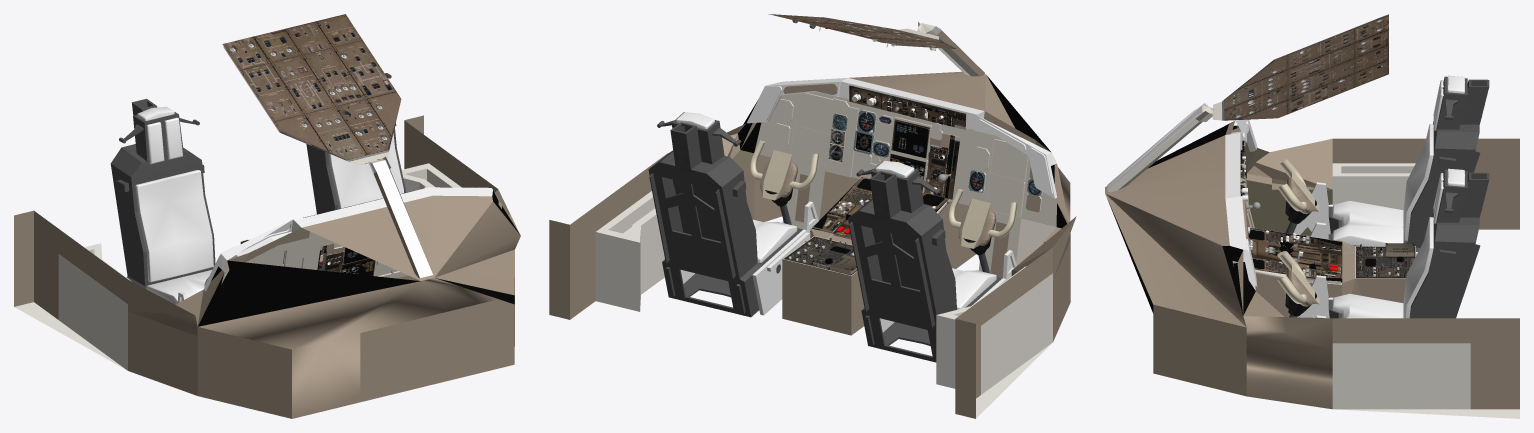
Rendered from cockpit.glb.
3 renders of one model, left to right at view 1: azimuth 30°, elevation 25°; view 2: azimuth 150°, elevation 25°; view 3: azimuth 270°, elevation 25°, orthographic. The views are drawn at different scales.
Parts seen in each view (by area): view 1: Object_20, Object_9, Object_21, Object_32, Object_12, Object_31, Object_14, Object_33, Object_27, Object_42; view 2: Object_32, Object_20, Object_33, Object_31, Object_21, Object_27, Object_14, Object_34, Object_9, Object_46, Object_8, Object_12 (+1 smaller); view 3: Object_20, Object_31, Object_32, Object_21, Object_9, Object_14, Object_46, Object_12, Object_8, Object_5, Object_34, Object_33 (+1 smaller).
Boxes of the visible parts, box(x1,y1,x2,y2) form: Object_20: box(14, 80, 520, 418); Object_9: box(221, 14, 401, 161); Object_21: box(135, 106, 403, 304); Object_32: box(110, 73, 405, 289); Object_12: box(198, 190, 519, 326); Object_31: box(14, 159, 461, 370); Object_14: box(203, 160, 499, 291); Object_33: box(221, 152, 501, 283); Object_27: box(303, 190, 414, 275); Object_42: box(230, 42, 387, 153); Object_32: box(648, 112, 1002, 362); Object_20: box(549, 17, 1076, 418); Object_33: box(755, 23, 1056, 275); Object_31: box(595, 27, 1052, 418); Object_21: box(676, 112, 1016, 332); Object_27: box(849, 85, 965, 199); Object_14: box(747, 26, 1057, 198); Object_34: box(750, 140, 1017, 248); Object_9: box(768, 14, 956, 49); Object_46: box(812, 177, 948, 237); Object_8: box(784, 236, 857, 275); Object_12: box(738, 76, 1066, 263); Object_20: box(1105, 106, 1519, 409); Object_31: box(1107, 107, 1519, 418); Object_32: box(1328, 76, 1489, 318); Object_21: box(1293, 75, 1464, 318); Object_9: box(1222, 14, 1388, 120); Object_14: box(1107, 103, 1257, 290); Object_46: box(1248, 228, 1344, 282); Object_12: box(1107, 121, 1403, 315); Object_8: box(1356, 243, 1415, 278); Object_5: box(1246, 180, 1332, 235); Object_34: box(1277, 158, 1319, 303); Object_33: box(1202, 101, 1415, 284).
Bounding box in the file's own units: 144 × 96.47 × 127.
43 materials, 15 textured.
